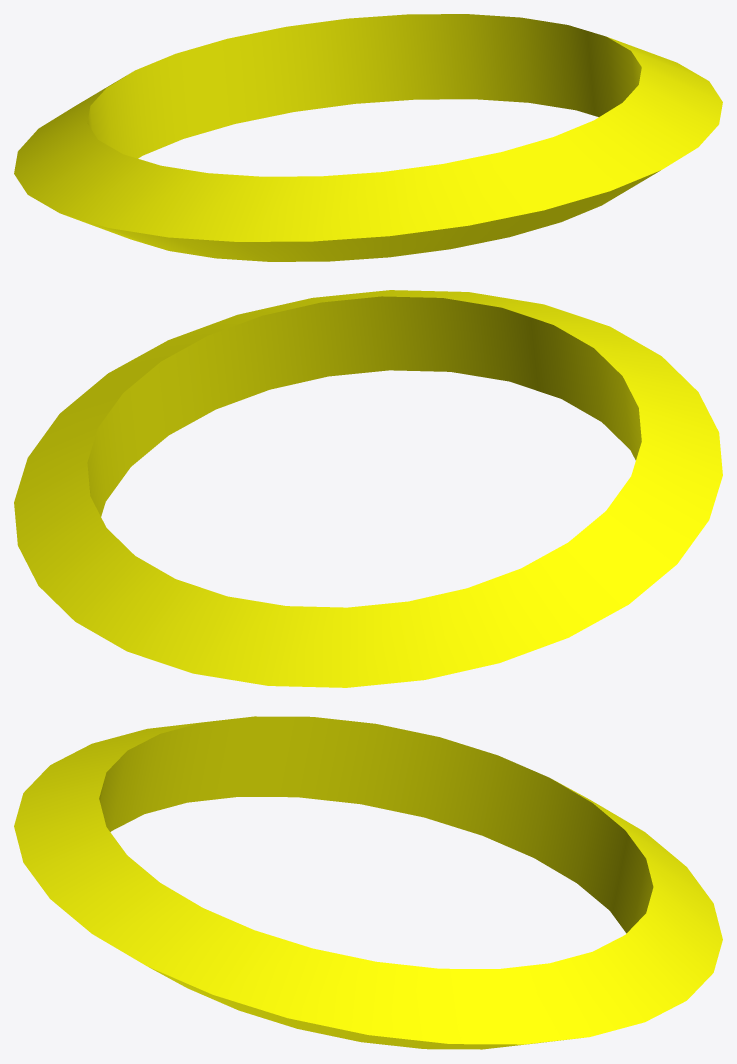
File: M_ACC_Hat_B.FBX
3 renders of one model, top to bottom at view 1: azimuth 30°, elevation 25°; view 2: azimuth 150°, elevation 25°; view 3: azimuth 270°, elevation 25°, orthographic.
Parts seen in each view (by area): view 1: M_ACC_Hat_B; view 2: M_ACC_Hat_B; view 3: M_ACC_Hat_B.
Boxes of the visible parts, x1=… form: M_ACC_Hat_B: x1=14, y1=14, x2=722, y2=261; M_ACC_Hat_B: x1=14, y1=290, x2=722, y2=687; M_ACC_Hat_B: x1=14, y1=716, x2=722, y2=1049.
Bounding box in the file's own units: 46.77 × 12.11 × 46.06.
